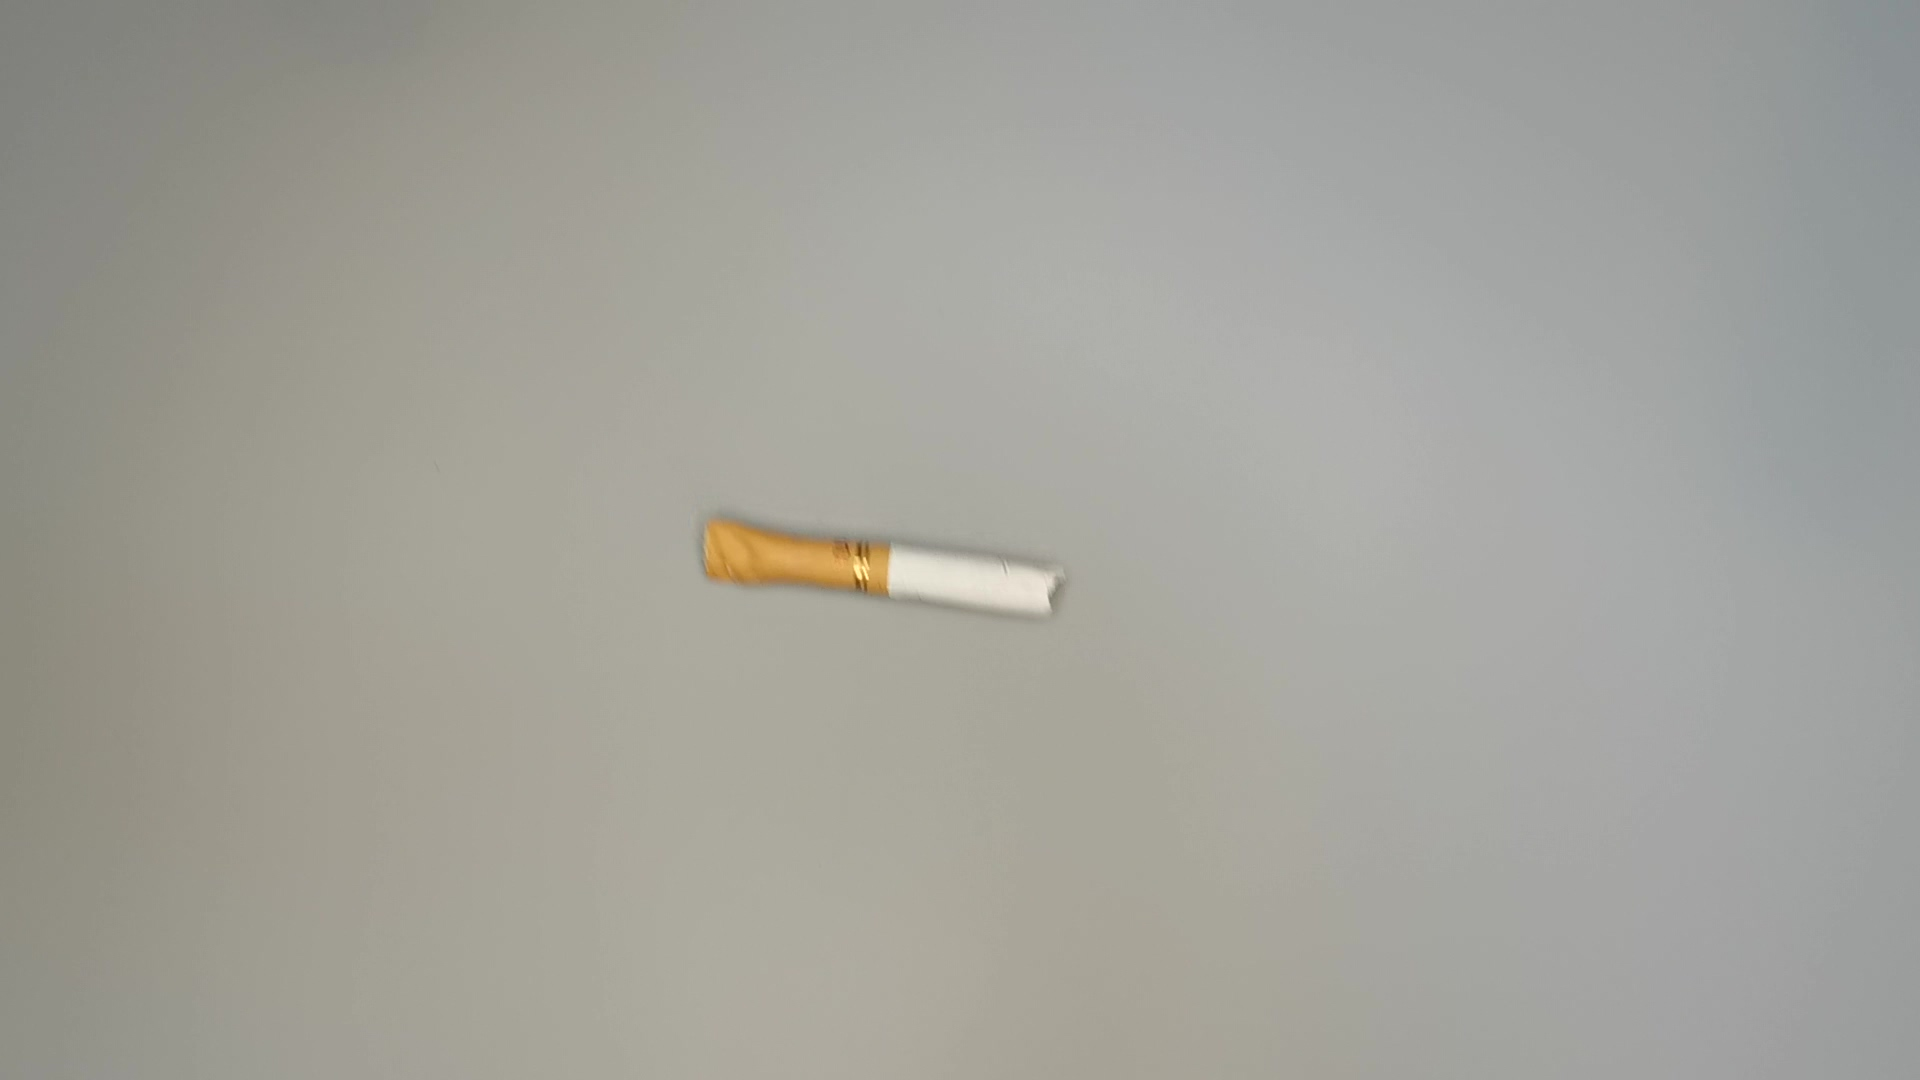cigarette: (688, 509, 1077, 640)
